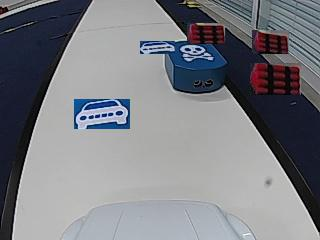danger: (179, 44, 215, 62)
